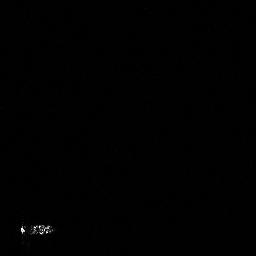ship: (20, 222, 54, 234)
